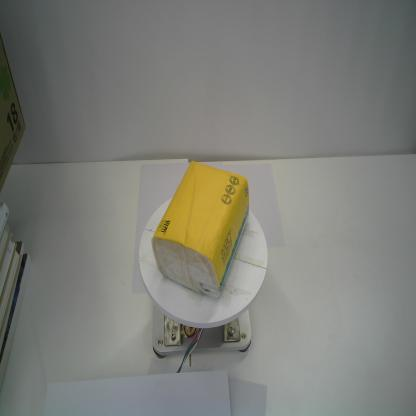Tissue: (152, 160, 250, 299)
